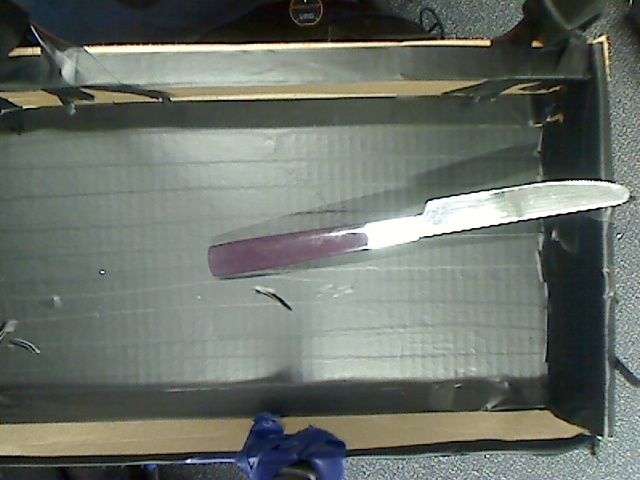knife: (194, 171, 632, 294)
